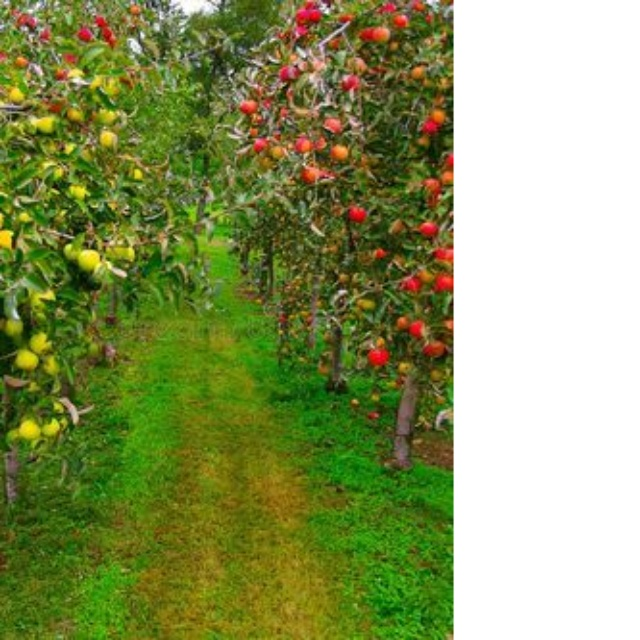sau_rieng: (73, 241, 106, 280), (329, 138, 355, 166), (97, 127, 119, 153)
